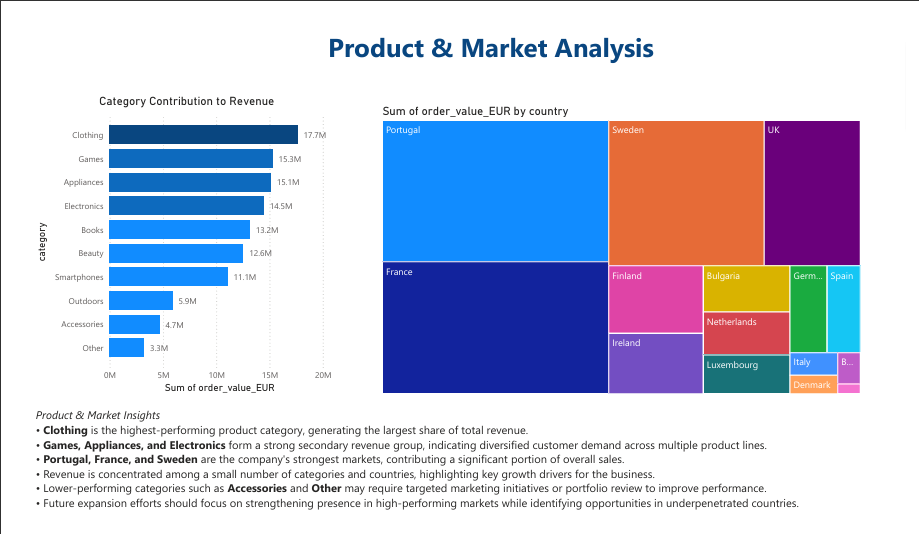

The page's visual inventory and layout, read from the dashboard file:
{"tool":"powerbi","page":{"name":"PRODUCT CATEGORY PERFORMANCE","canvas":[1280,720],"ordinal":1},"visuals":[{"type":"clusteredBarChart","title":"Revenue by Category ","fields":{"Category":["Sales-Export_2019-2020.category"],"Y":["Sum(Sales-Export_2019-2020. order_value_EUR )"]},"box":[50,102.9,634.3,422.9],"z":0},{"type":"textbox","box":[310,11.4,748.6,60],"z":1},{"type":"map","fields":{"Category":["Sales-Export_2019-2020.country"]},"box":[852.5,103,427.5,423],"z":2}]}

Visuals, with their boxes on the page's 1280x720 design canvas (x1, y1, x2, y2). These are canvas units, not pixel positions in the 919x534 screenshot, which may show the page scaled, cropped or inside an application window:
"Revenue by Category " clusteredBarChart: (50,103,684,526)
textbox: (310,11,1059,71)
map - Sales-Export_2019-2020.country: (852,103,1280,526)
